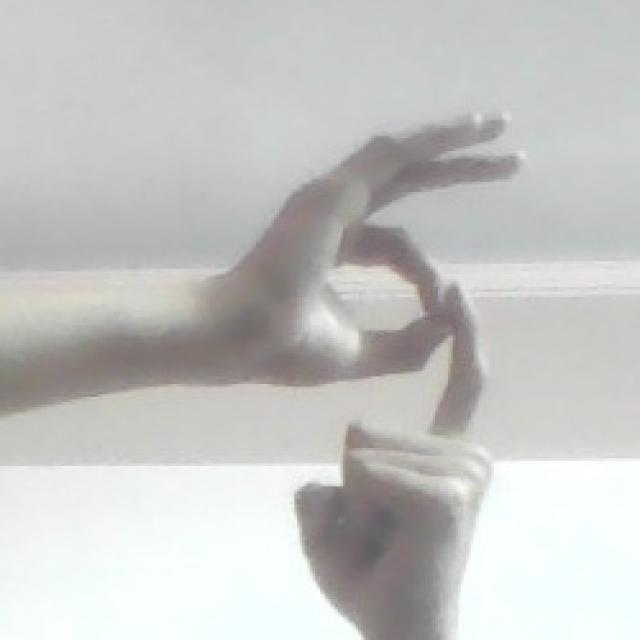Alphabet-P: (128, 61, 533, 640)
